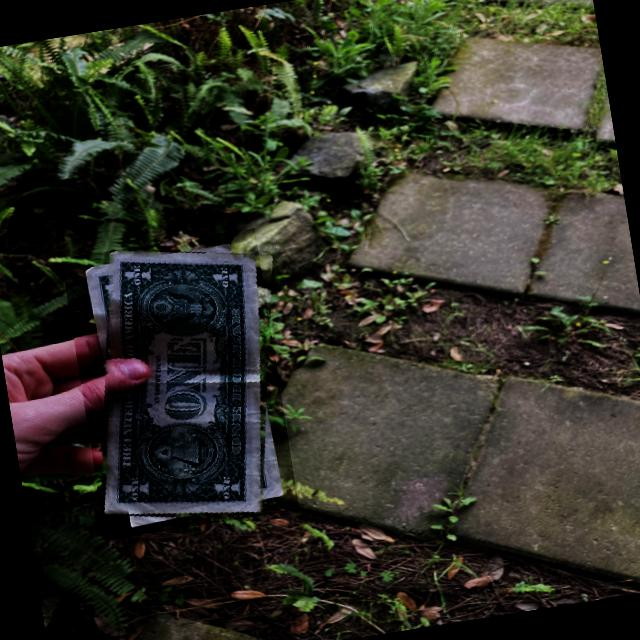one: (103, 251, 270, 520)
